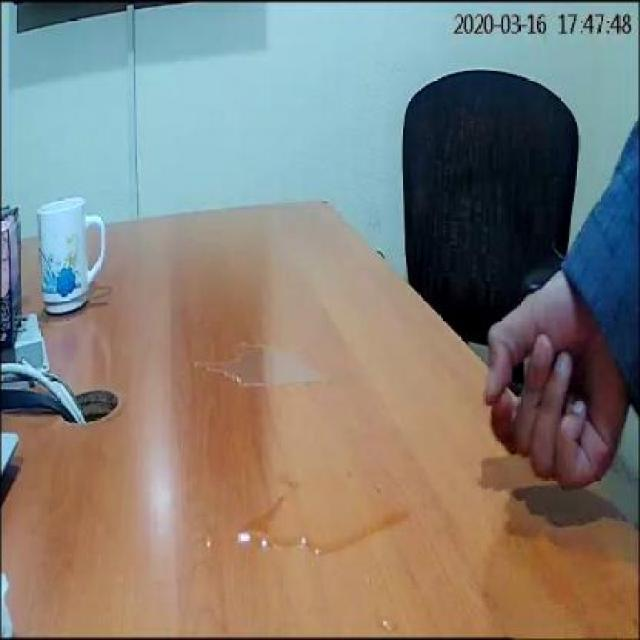spill: (239, 477, 407, 555), (202, 341, 324, 394)
